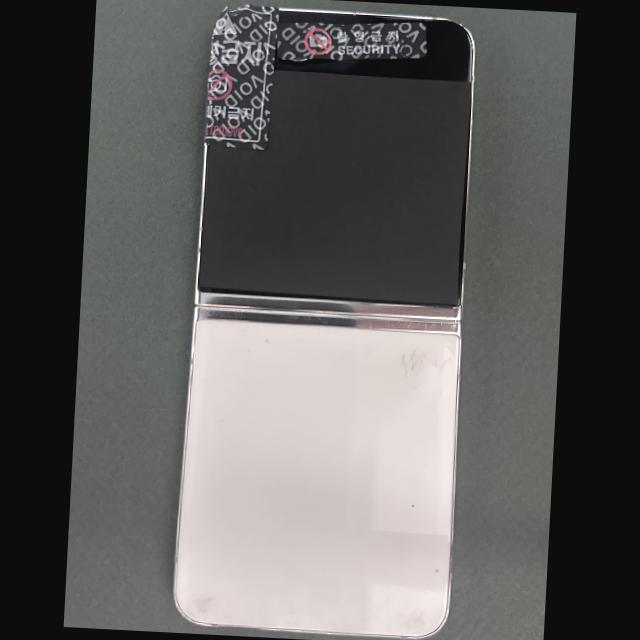phone: (172, 6, 476, 639)
sticker: (204, 4, 279, 151), (278, 22, 427, 59)
